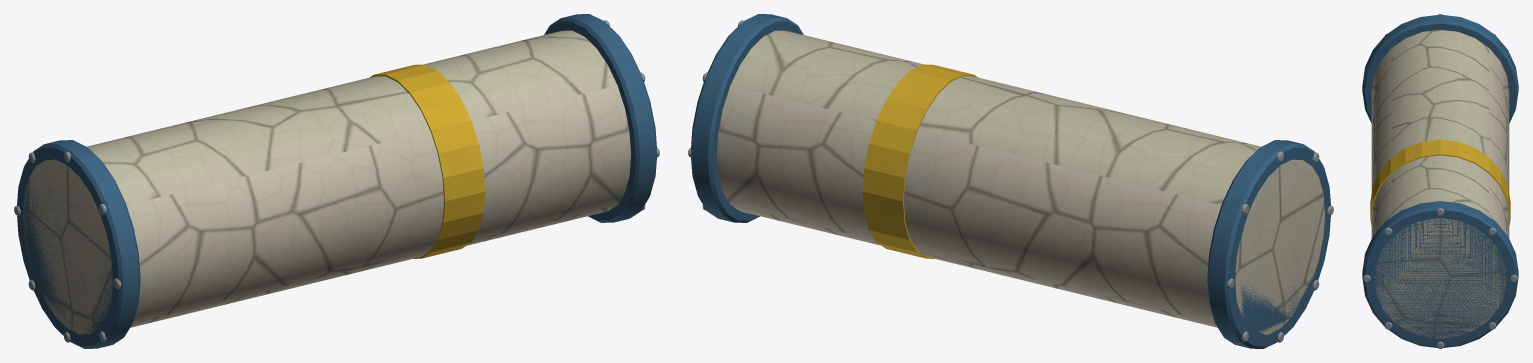
Rendered from large_pipe_long.glb.
3 views of the same model, side by side, from view 1: azimuth 30°, elevation 25°; view 2: azimuth 150°, elevation 25°; view 3: azimuth 270°, elevation 25° (orthographic). The views are drawn at different scales.
Visible parts, largest first — view 1: large_pipe_long; view 2: large_pipe_long; view 3: large_pipe_long.
Boxes of the visible parts, x1=… form: large_pipe_long: x1=14, y1=14, x2=659, y2=348; large_pipe_long: x1=688, y1=14, x2=1333, y2=348; large_pipe_long: x1=1362, y1=14, x2=1518, y2=348.
Size of the model in its own units: 4.03 by 1.36 by 1.36.
Materials: 4 (4 with a texture image).
